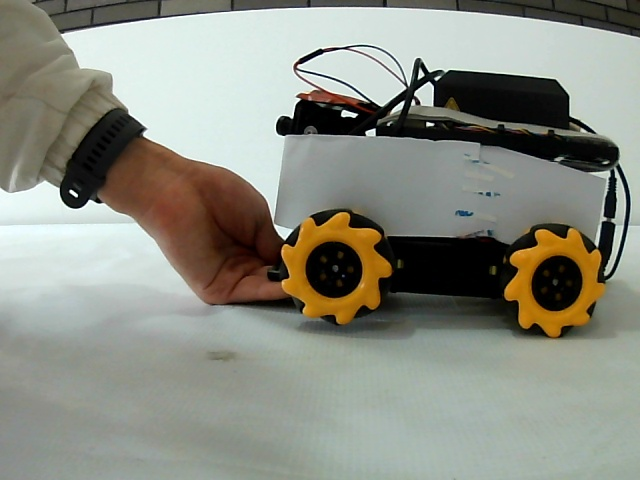car: (274, 56, 621, 338)
paper: (288, 136, 598, 228)
